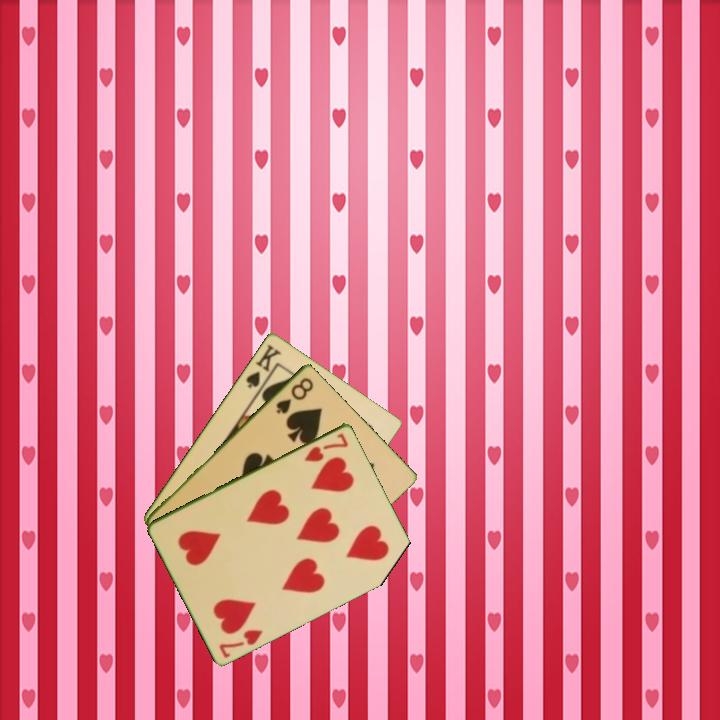7h: (301, 429, 351, 465), (216, 625, 266, 660)
8s: (272, 374, 316, 417)
Ks: (242, 340, 284, 395)
